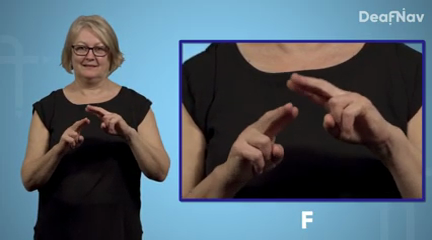F: (56, 99, 131, 155)
